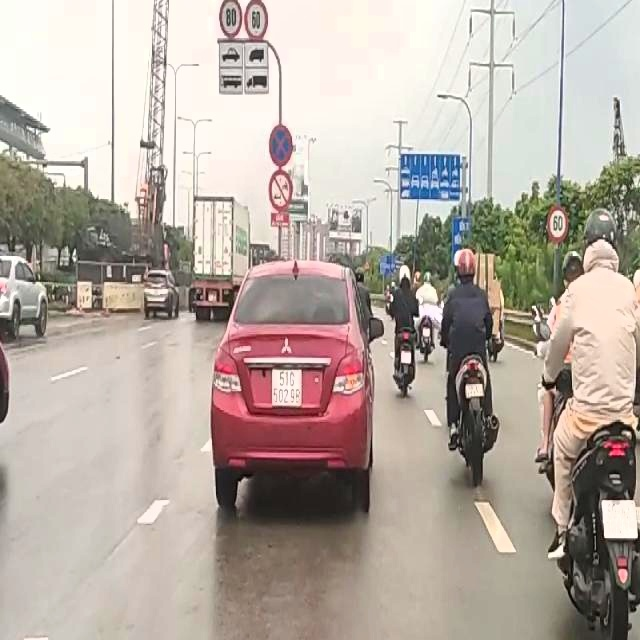B.8a: (268, 168, 292, 208)
P.127*60: (244, 1, 268, 39), (547, 205, 567, 241)
P.127*80: (219, 1, 243, 37)
P.130: (269, 123, 293, 165)
